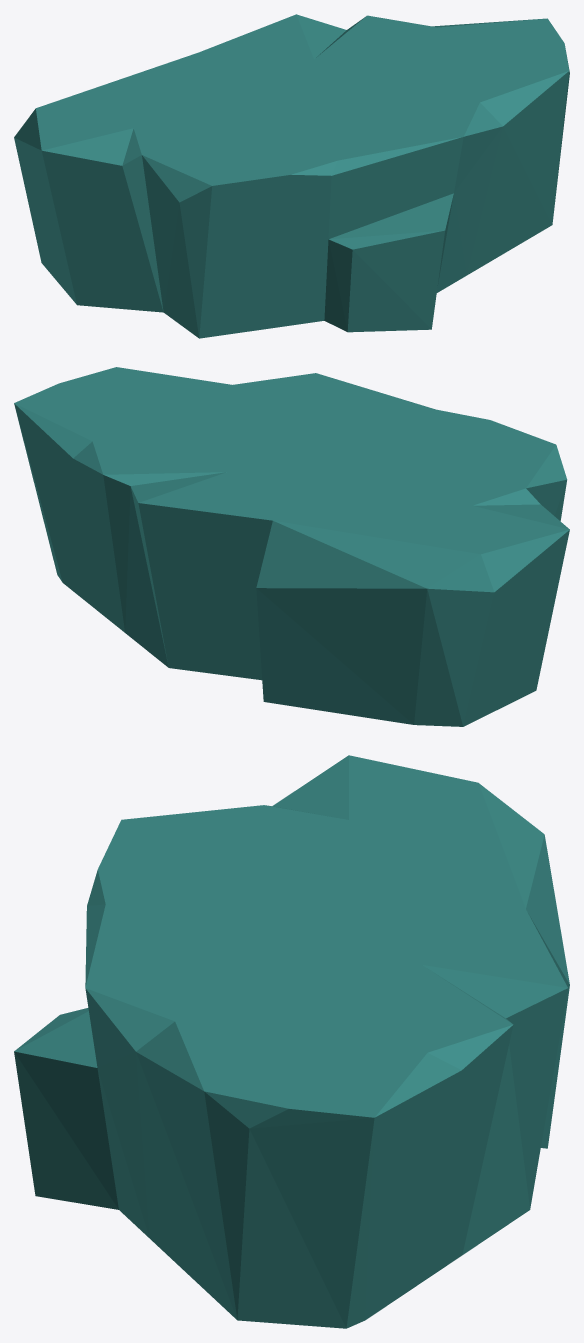
File: SM_Rock_Sea_Small_Flat_B.fbx
The picture shows the model from 3 angles, top to bottom: view 1: azimuth 30°, elevation 25°; view 2: azimuth 150°, elevation 25°; view 3: azimuth 270°, elevation 25°; orthographic projection. The views are drawn at different scales.
Visible parts, largest first — view 1: rock-sea-small-flat-b; view 2: rock-sea-small-flat-b; view 3: rock-sea-small-flat-b.
Boxes of the visible parts, <box> form: rock-sea-small-flat-b: <box>14,14,569,338</box>; rock-sea-small-flat-b: <box>14,367,569,726</box>; rock-sea-small-flat-b: <box>14,755,569,1328</box>.
Size of the model in its own units: 1.47 by 0.4602 by 0.9554.
